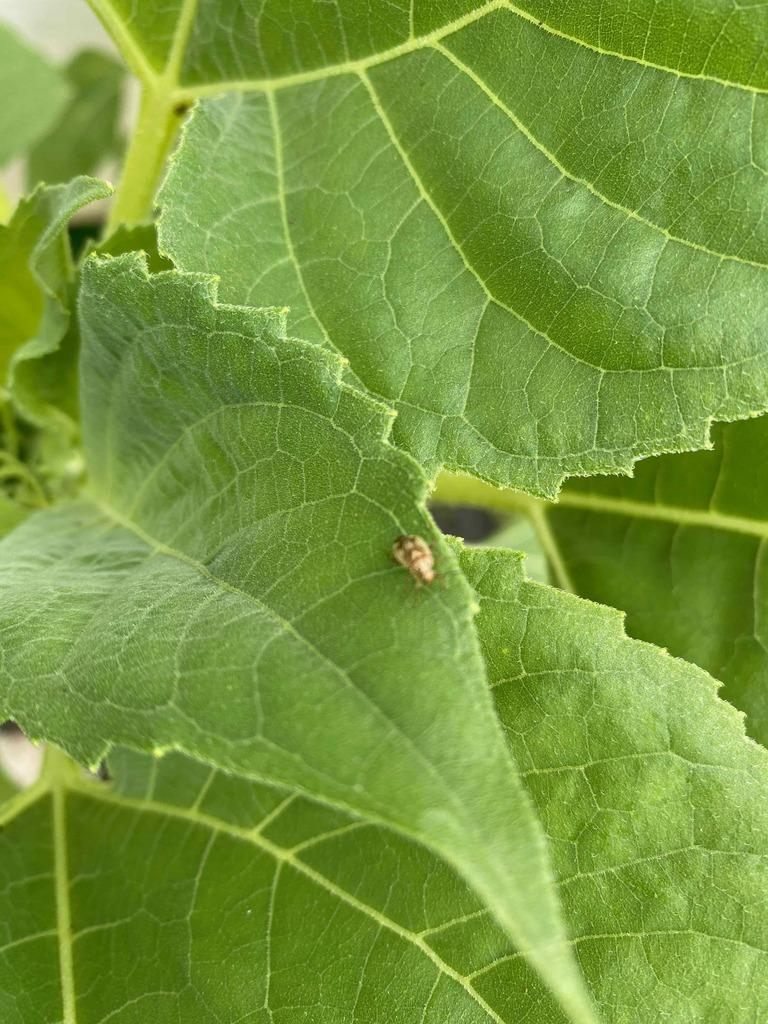plant_bugs: (360, 503, 471, 615)
